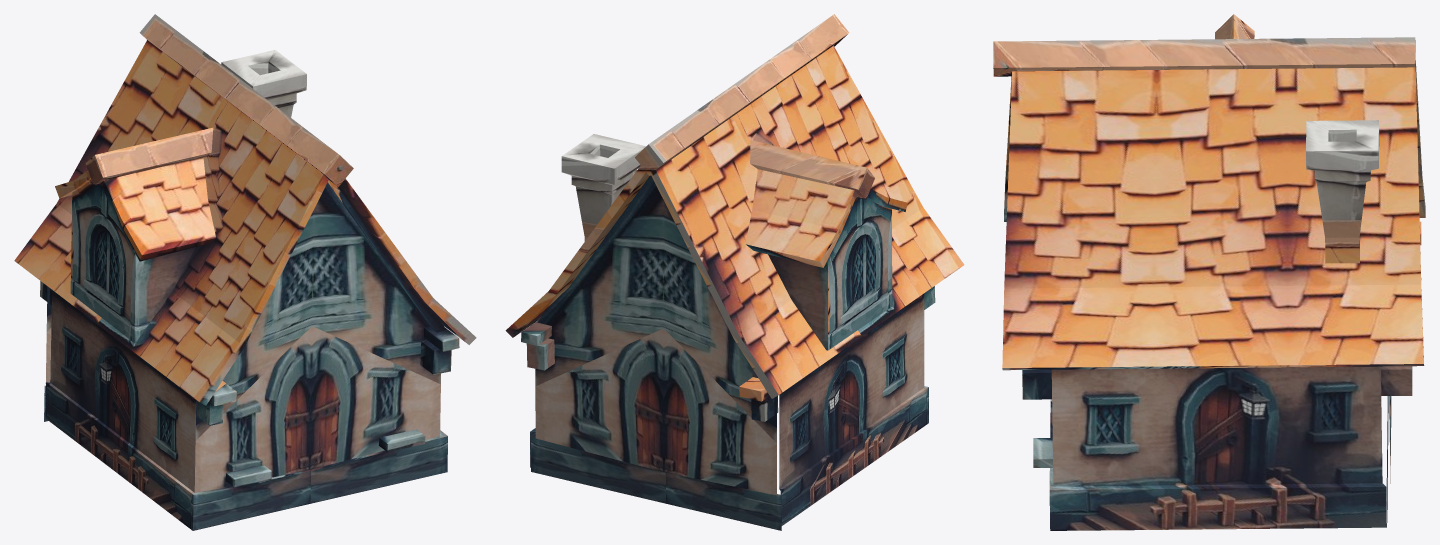
3 views of the same model, side by side, from view 1: azimuth 30°, elevation 25°; view 2: azimuth 150°, elevation 25°; view 3: azimuth 270°, elevation 25° (orthographic). The views are drawn at different scales.
Parts seen in each view (by area): view 1: h10.002; view 2: h10.002; view 3: h10.002.
Part boxes in pixels (<box>): h10.002: <box>14,14,476,530</box>; h10.002: <box>505,14,964,530</box>; h10.002: <box>993,14,1425,530</box>.
Bounding box in the file's own units: 1.59 × 2.01 × 1.87.
Materials: 1 (1 with a texture image).
